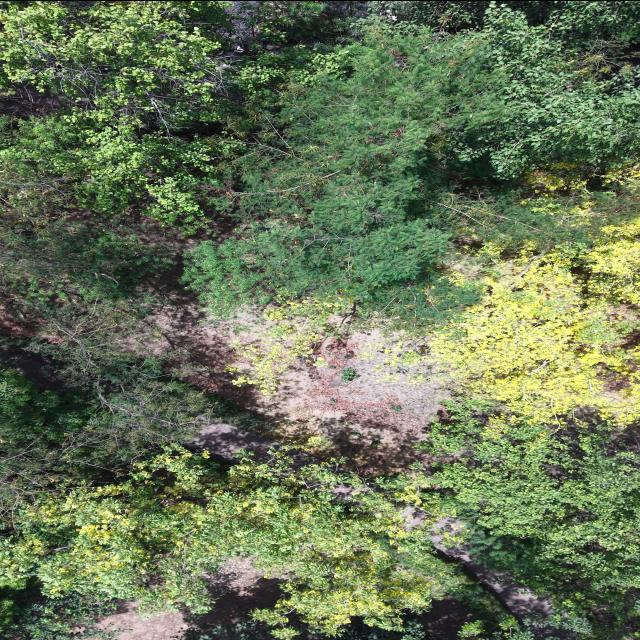DRY_AREA: (121, 300, 448, 475), (154, 300, 448, 475), (154, 303, 448, 475), (157, 306, 449, 475), (156, 305, 447, 474), (191, 331, 447, 474), (196, 332, 447, 474), (189, 333, 441, 473), (252, 333, 447, 475), (257, 332, 447, 475), (99, 558, 279, 639), (99, 559, 278, 639), (101, 559, 276, 639), (431, 533, 552, 617), (432, 535, 552, 618), (99, 590, 271, 639), (447, 549, 552, 617), (185, 421, 278, 463), (97, 601, 188, 639), (415, 596, 473, 639)
PATHWAYS: (433, 535, 551, 617)
VEGETATION_TREE: (0, 1, 639, 639), (2, 1, 637, 335), (2, 444, 462, 637), (421, 404, 639, 639), (430, 219, 639, 424), (0, 358, 258, 518), (0, 585, 121, 639), (457, 614, 591, 639), (339, 621, 425, 639)
